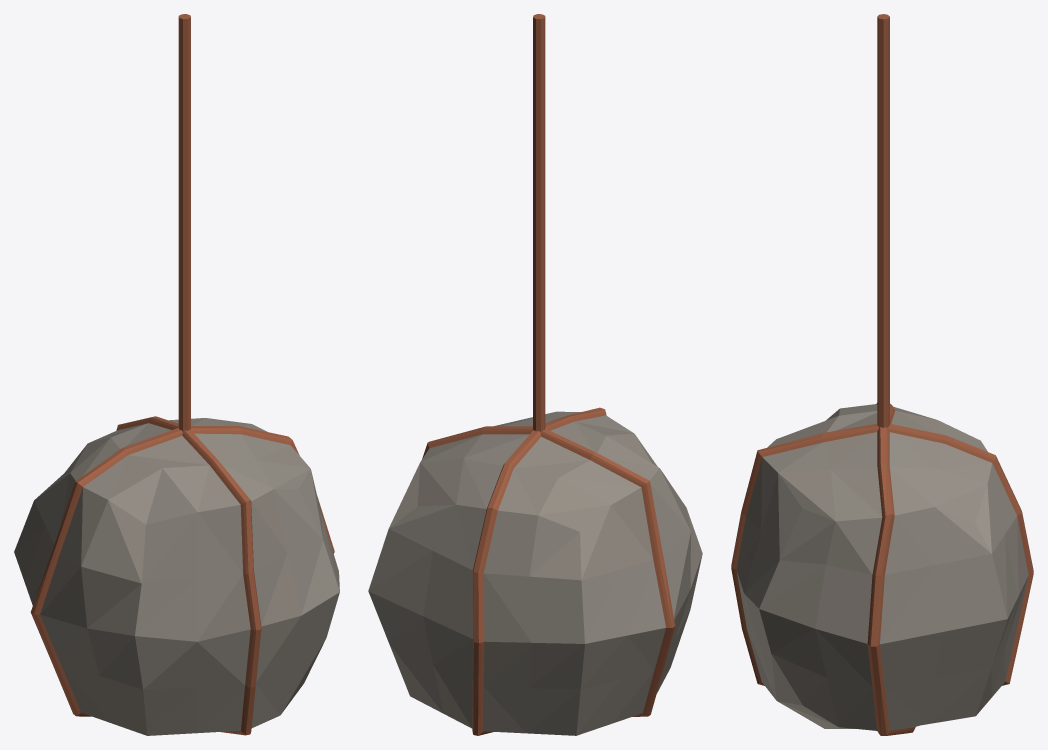
Rendered from Obstacle_Boulder.fbx.
The picture shows the model from 3 angles, left to right: view 1: azimuth 30°, elevation 25°; view 2: azimuth 150°, elevation 25°; view 3: azimuth 270°, elevation 25°; orthographic projection.
Parts seen in each view (by area): view 1: Obstacle_Boulder; view 2: Obstacle_Boulder; view 3: Obstacle_Boulder.
Part boxes in pixels (box(x1,y1,x2,y2)): Obstacle_Boulder: box(14, 14, 339, 735); Obstacle_Boulder: box(368, 14, 702, 735); Obstacle_Boulder: box(731, 14, 1033, 735).
Bounding box in the file's own units: 4.13 × 9.62 × 3.79.
